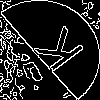K: (25, 25, 87, 80)
